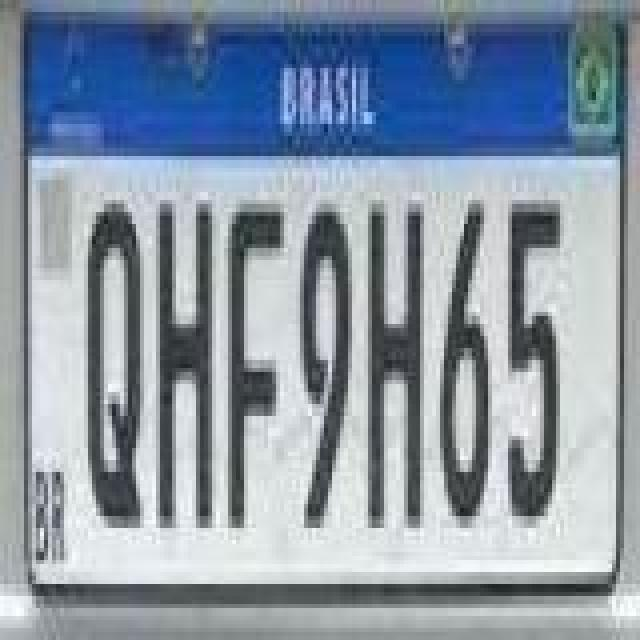5: (508, 196, 564, 524)
6: (436, 200, 492, 528)
9: (298, 200, 358, 536)
F: (226, 204, 286, 532)
H: (154, 196, 214, 532), (362, 196, 422, 532)
Q: (82, 196, 142, 532)
